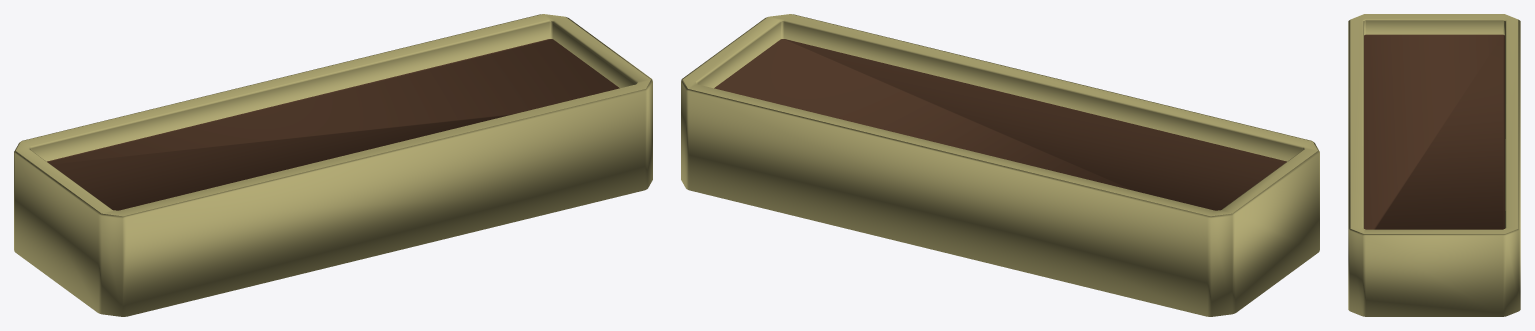
File: PlantBox.fbx
3 renders of one model, left to right at view 1: azimuth 30°, elevation 25°; view 2: azimuth 150°, elevation 25°; view 3: azimuth 270°, elevation 25°, orthographic. The views are drawn at different scales.
Visible parts, largest first — view 1: ScarfoldPlate; view 2: ScarfoldPlate; view 3: ScarfoldPlate.
Boxes of the visible parts, x1=… form: ScarfoldPlate: x1=14, y1=14, x2=652, y2=316; ScarfoldPlate: x1=681, y1=14, x2=1319, y2=316; ScarfoldPlate: x1=1348, y1=14, x2=1520, y2=316.
Bounding box in the file's own units: 298 × 51.31 × 97.8.
